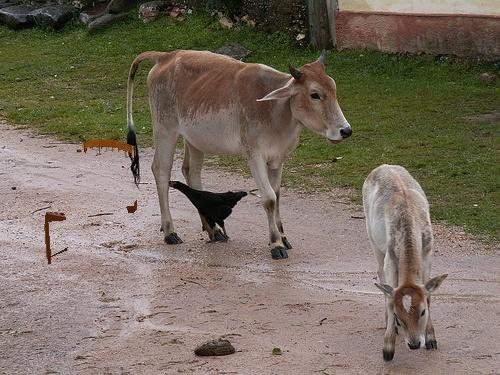tampered: (45, 141, 137, 264)
